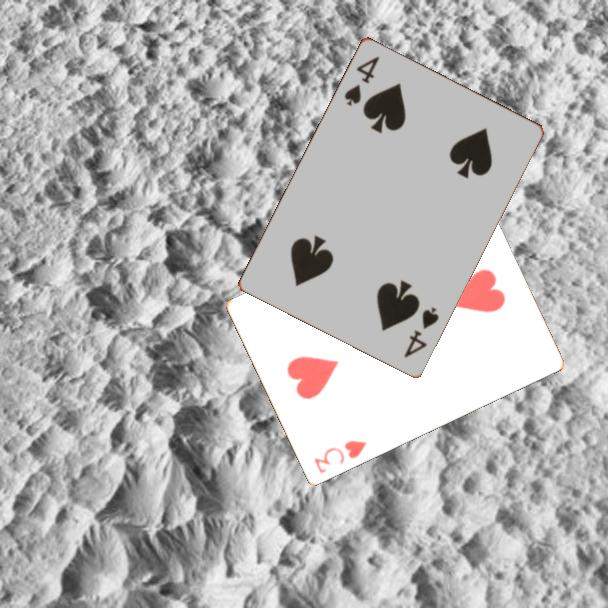h03: (310, 437, 369, 477)
s04: (340, 52, 382, 109), (400, 303, 442, 360)
